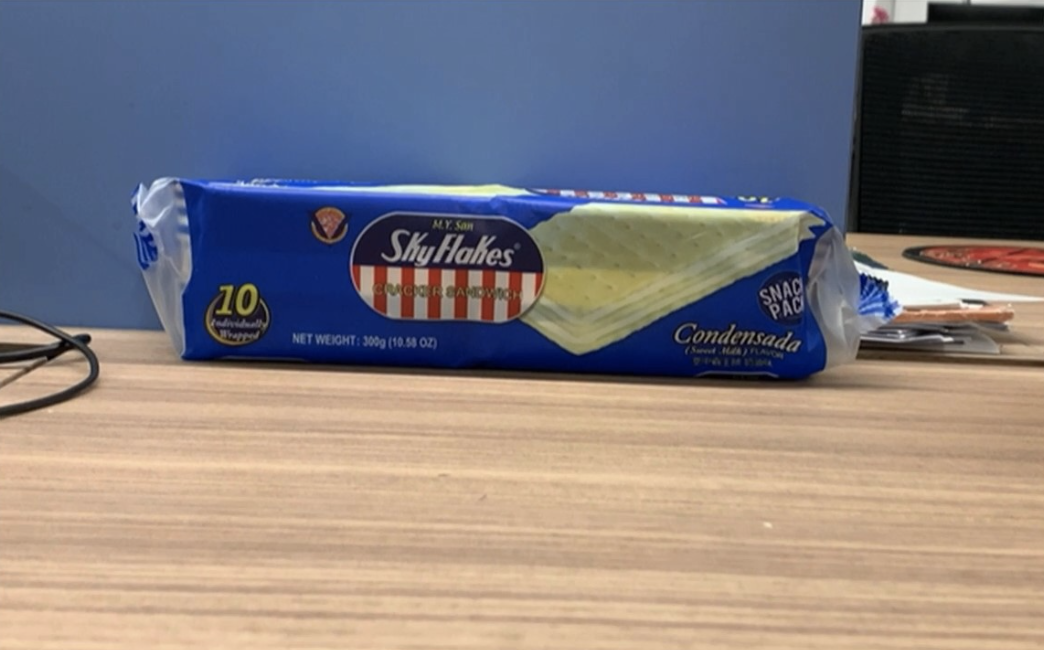crackers_300g-399g: (193, 189, 814, 369)
